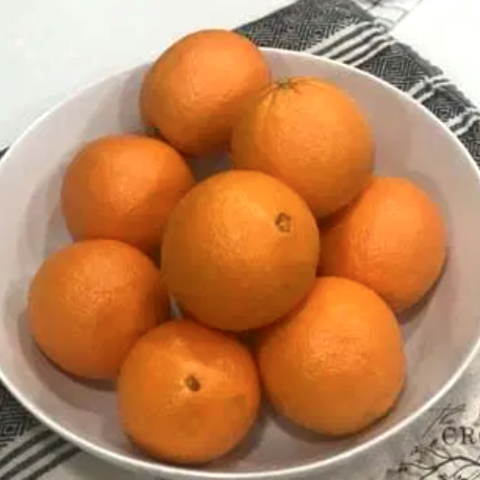orange: (156, 166, 326, 329), (249, 268, 406, 438), (290, 160, 475, 304), (108, 302, 261, 467), (4, 234, 174, 377), (134, 22, 280, 149)
